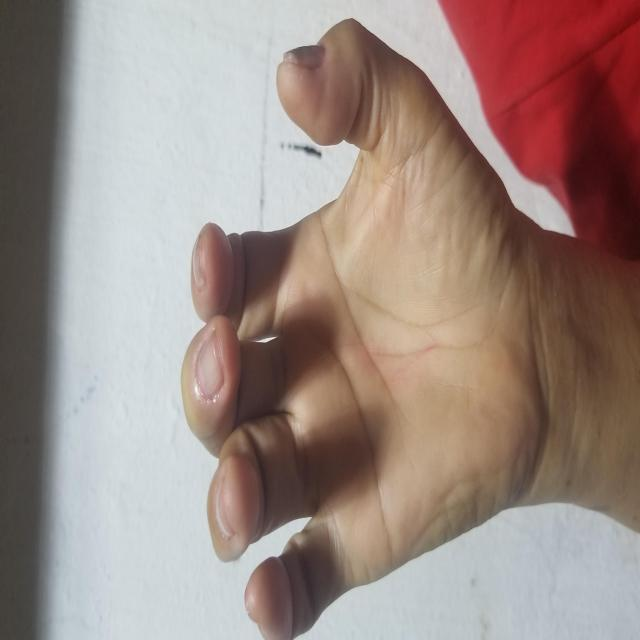E: (0, 177, 623, 537)
